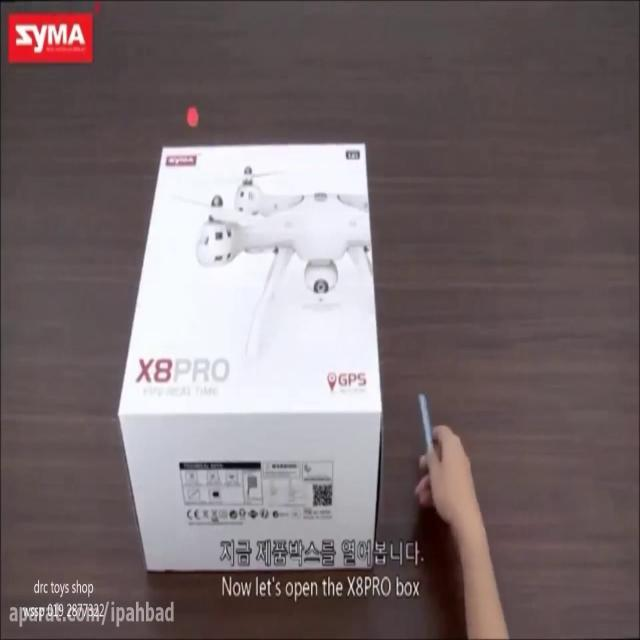drone: (166, 162, 378, 352)
